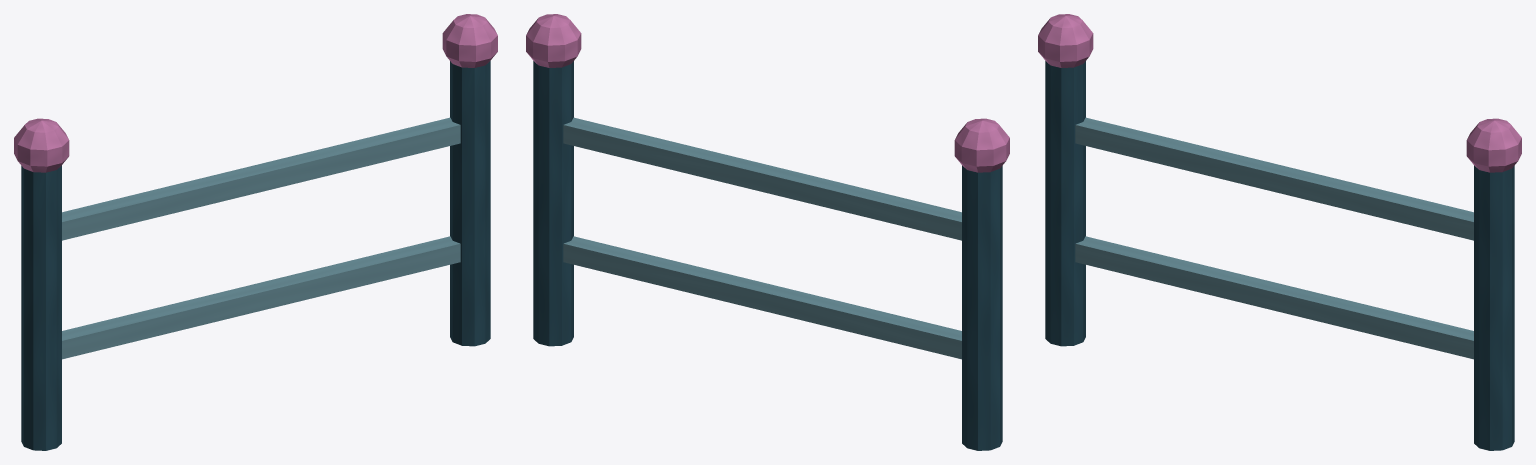
File: atlas100-abyss-util04.glb
The picture shows the model from 3 angles, left to right: view 1: azimuth 30°, elevation 25°; view 2: azimuth 150°, elevation 25°; view 3: azimuth 330°, elevation 25°; orthographic projection.
Visible parts, largest first — view 1: atlas100-abyss-util04:part-004, atlas100-abyss-util04:part-005, atlas100-abyss-util04:part-000, atlas100-abyss-util04:part-002, atlas100-abyss-util04:part-001, atlas100-abyss-util04:part-003; view 2: atlas100-abyss-util04:part-004, atlas100-abyss-util04:part-005, atlas100-abyss-util04:part-000, atlas100-abyss-util04:part-002, atlas100-abyss-util04:part-001, atlas100-abyss-util04:part-003; view 3: atlas100-abyss-util04:part-004, atlas100-abyss-util04:part-005, atlas100-abyss-util04:part-002, atlas100-abyss-util04:part-000, atlas100-abyss-util04:part-003, atlas100-abyss-util04:part-001.
Part boxes in pixels (x1=…): atlas100-abyss-util04:part-004: x1=62, y1=236, x2=460, y2=359; atlas100-abyss-util04:part-005: x1=62, y1=117, x2=460, y2=240; atlas100-abyss-util04:part-000: x1=21, y1=165, x2=61, y2=450; atlas100-abyss-util04:part-002: x1=450, y1=61, x2=490, y2=346; atlas100-abyss-util04:part-001: x1=14, y1=118, x2=69, y2=172; atlas100-abyss-util04:part-003: x1=442, y1=14, x2=497, y2=67; atlas100-abyss-util04:part-004: x1=563, y1=236, x2=961, y2=359; atlas100-abyss-util04:part-005: x1=563, y1=117, x2=961, y2=240; atlas100-abyss-util04:part-000: x1=962, y1=165, x2=1002, y2=450; atlas100-abyss-util04:part-002: x1=533, y1=61, x2=573, y2=346; atlas100-abyss-util04:part-001: x1=954, y1=118, x2=1009, y2=172; atlas100-abyss-util04:part-003: x1=526, y1=14, x2=581, y2=67; atlas100-abyss-util04:part-004: x1=1075, y1=236, x2=1473, y2=359; atlas100-abyss-util04:part-005: x1=1075, y1=117, x2=1473, y2=240; atlas100-abyss-util04:part-002: x1=1474, y1=165, x2=1514, y2=450; atlas100-abyss-util04:part-000: x1=1045, y1=61, x2=1085, y2=346; atlas100-abyss-util04:part-003: x1=1466, y1=118, x2=1521, y2=172; atlas100-abyss-util04:part-001: x1=1038, y1=14, x2=1093, y2=67.
Bounding box in the file's own units: 2.15 × 1.39 × 0.2059.
3 materials, 3 textured.
